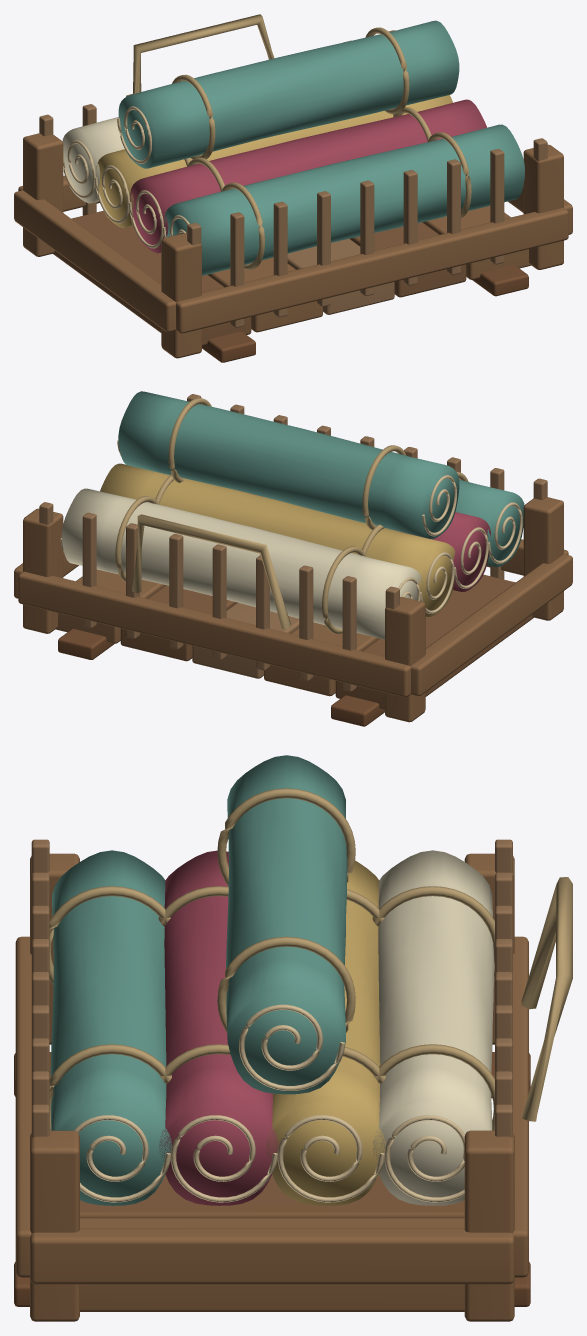
File: silk.glb
3 views of the same model, one above another, from view 1: azimuth 30°, elevation 25°; view 2: azimuth 150°, elevation 25°; view 3: azimuth 270°, elevation 25° (orthographic). The views are drawn at different scales.
Visible parts, largest first — view 1: Cargo_silk; view 2: Cargo_silk; view 3: Cargo_silk.
Part boxes in pixels (x1,y1,x2,y2): Cargo_silk: [14, 14, 572, 362]; Cargo_silk: [14, 391, 572, 726]; Cargo_silk: [14, 755, 572, 1321].
Size of the model in its own units: 1.03 by 0.5066 by 0.7844.
